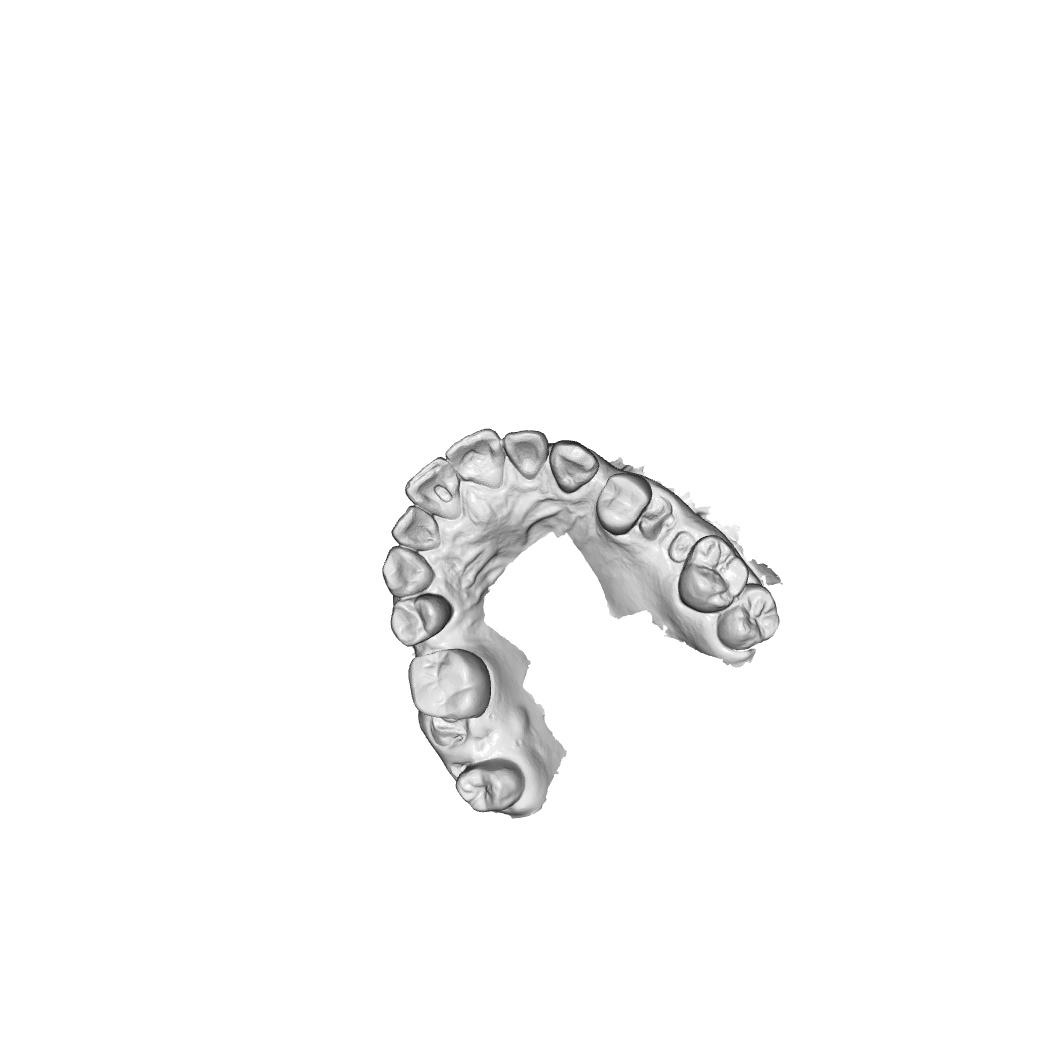canine: (382, 546, 436, 598), (549, 439, 600, 494)
incisor: (444, 427, 506, 491), (405, 456, 462, 521), (503, 429, 550, 481), (391, 505, 442, 552)
molar: (407, 647, 493, 723), (677, 534, 751, 614), (716, 582, 780, 651), (455, 757, 527, 813)
premolar: (595, 472, 653, 536), (390, 593, 453, 648)
